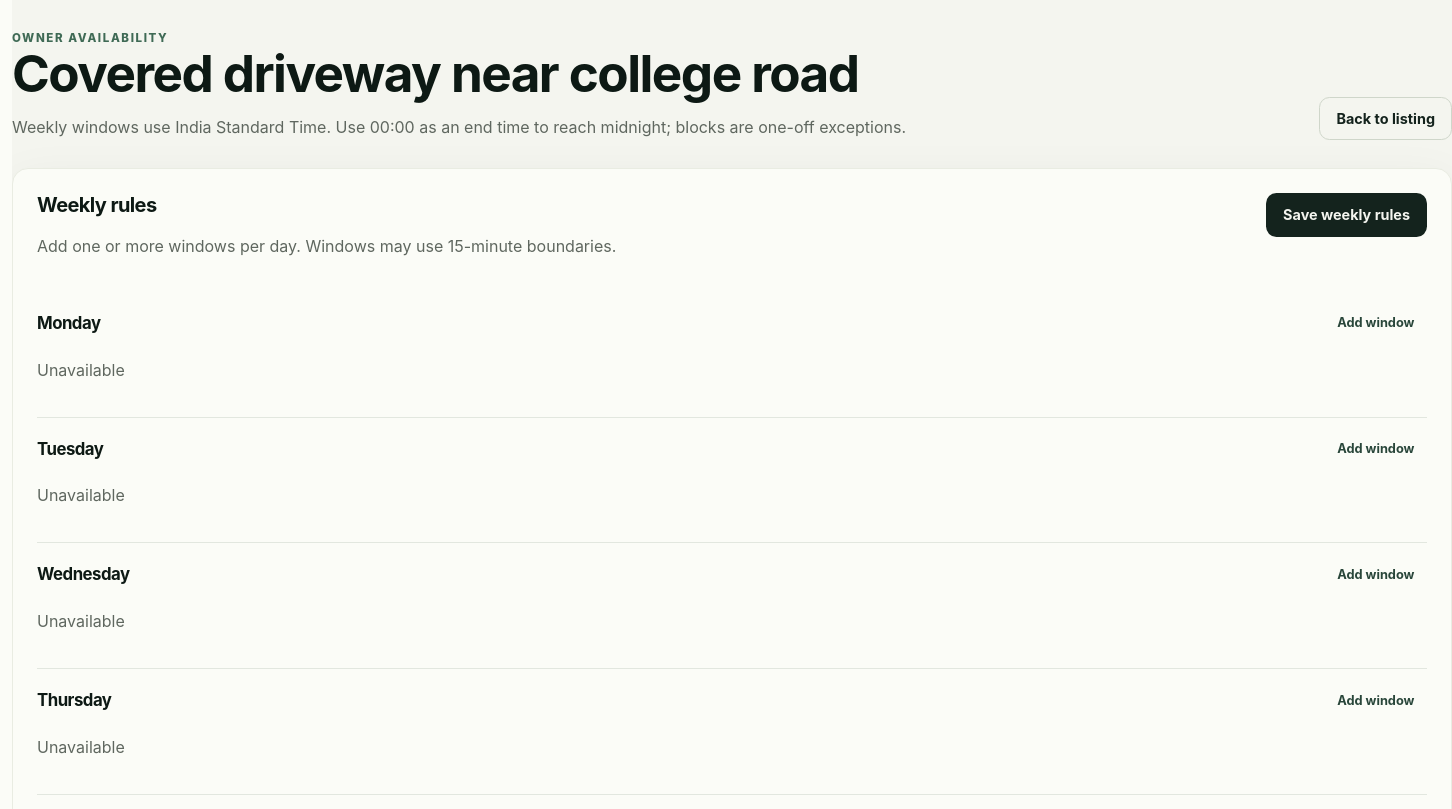
Test: OwnerAvailabilityPage › saves a weekly window added for Monday
The width and height of the screenshot is (1452, 809).
Expected: the heading "Covered driveway near college road" is shown, [12,48,906,98]
Click the button "Add window" in the row of "Monday" at coordinates (1376, 323), box [1325,305,1427,340]
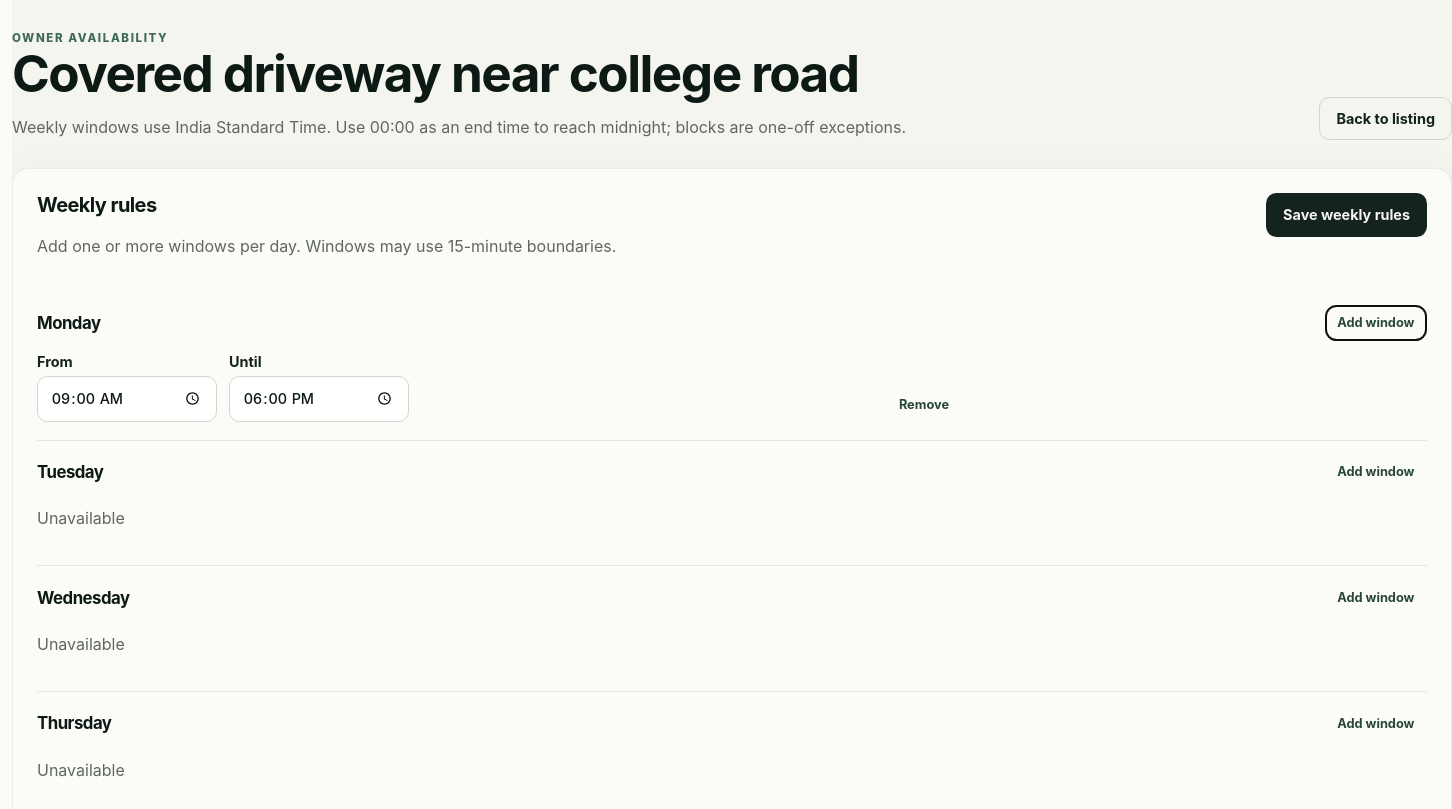
Click the button "Save weekly rules" at coordinates (1347, 215), box [1266,193,1427,237]
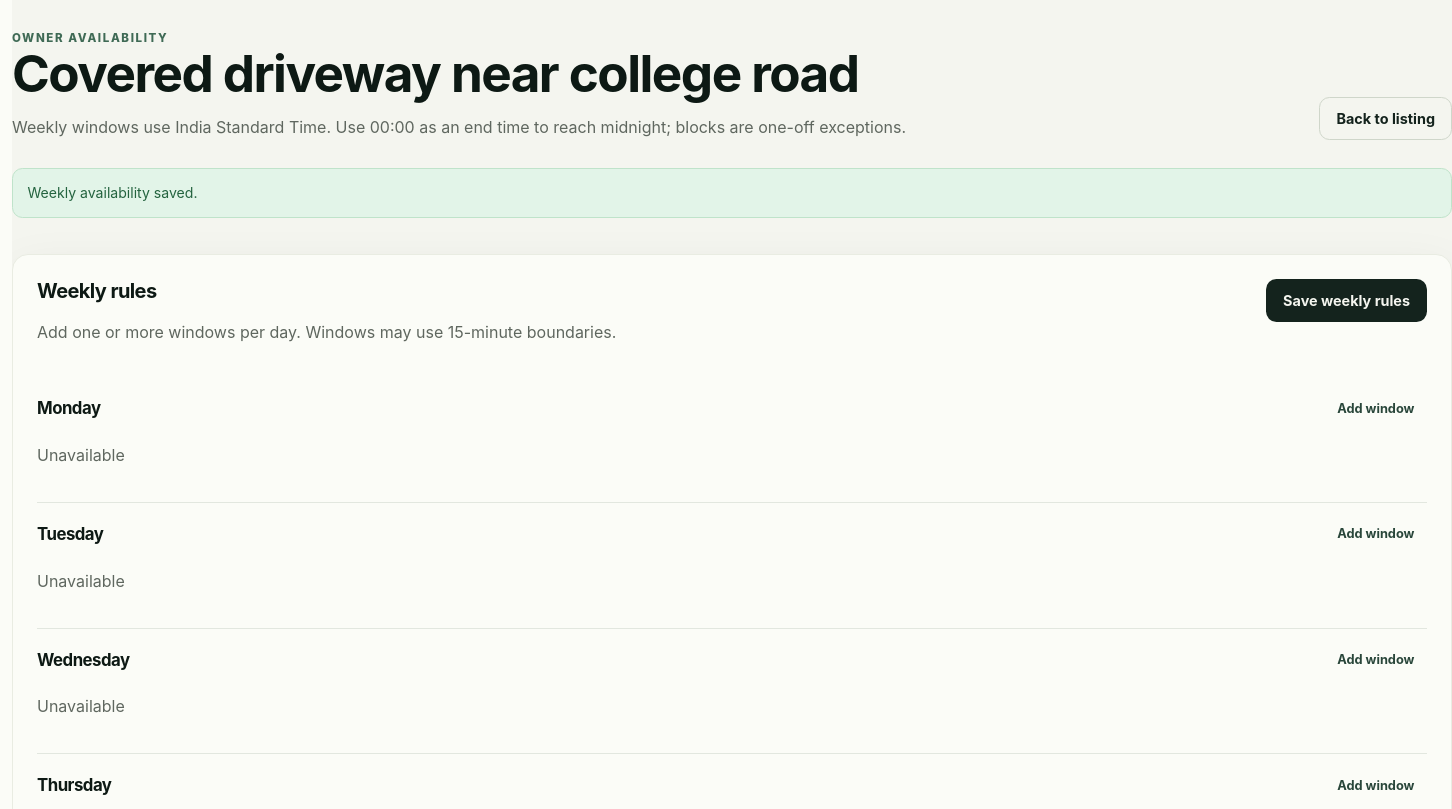
Now the text "Weekly availability saved." is shown, box [12,168,1451,218]
